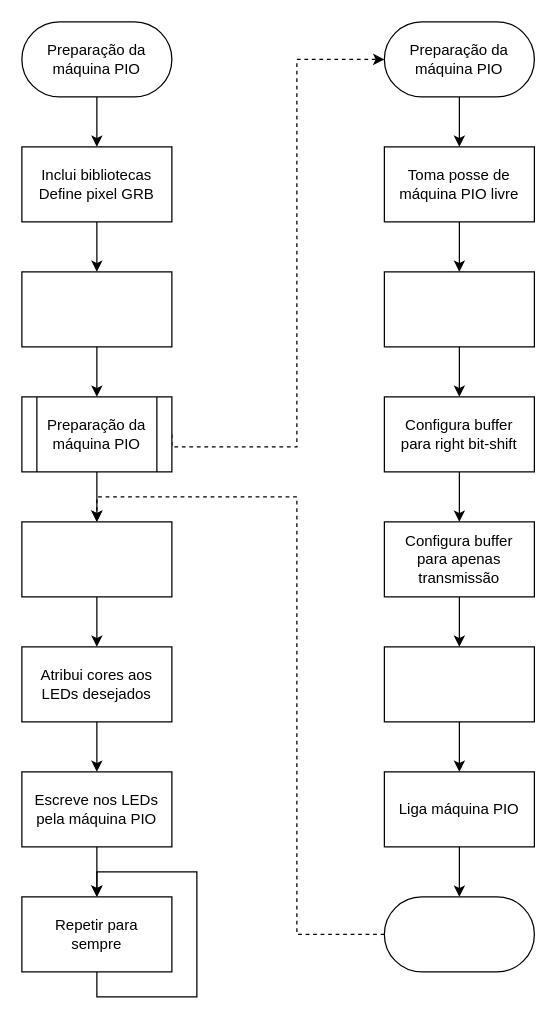
Image size: 556x1029. Some labels were removed from this diagram. Here are the shapes that lost their labels. From the top down, the centre of each, then its label:
point (96, 309): Cria buffer de pixels GRB
point (458, 309): Liga pino da matriz à máquina PIO
point (96, 559): Limpa buffer de pixels
point (458, 684): Configura frequência da máquina PIO (800.000 envios/s)
point (458, 934): Fim do processo
